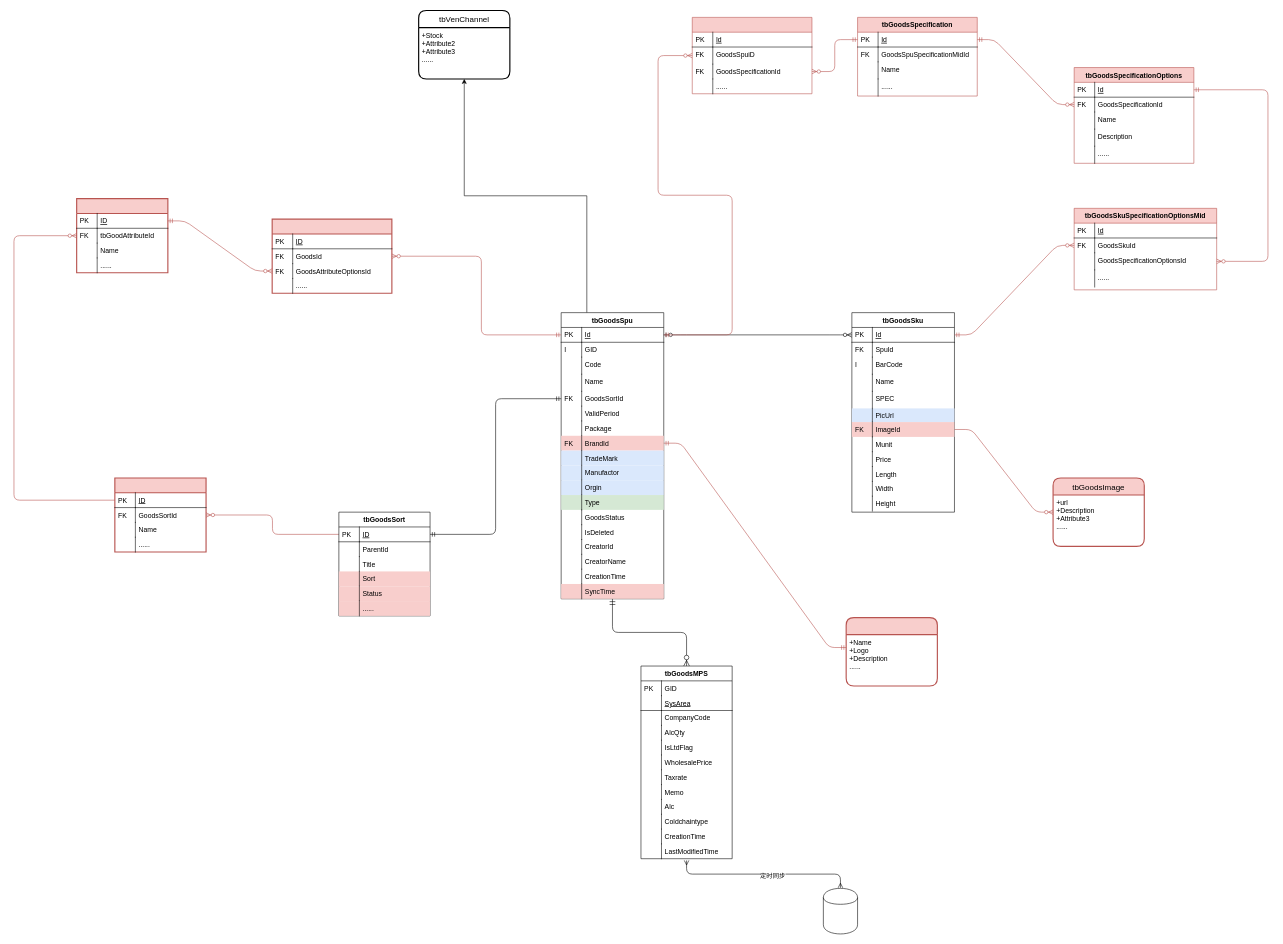
This 1283x944 diagram has some shape labels left out. Here are the shapes that lost their labels. From the top down, the box of each, then its label:
(692, 17, 812, 94): tbGoodsSpuSpecificationMid
(76, 198, 168, 273): tbGoodsAttributeOptions
(271, 218, 392, 294): tbGoodAttributeOptionsMid
(114, 477, 206, 552): tbGoodAttribute
(845, 617, 938, 686): tbGoodsBrand
